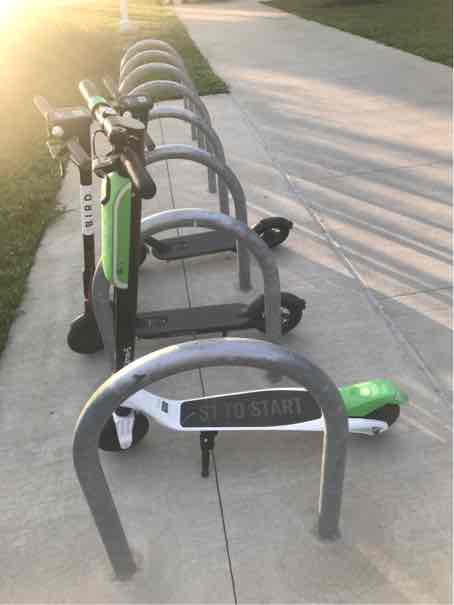scooter: (56, 61, 412, 487)
